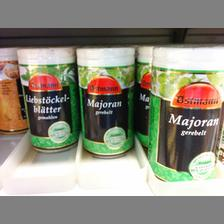Gewuerze: (146, 43, 222, 180), (15, 46, 79, 152), (75, 46, 135, 158)
